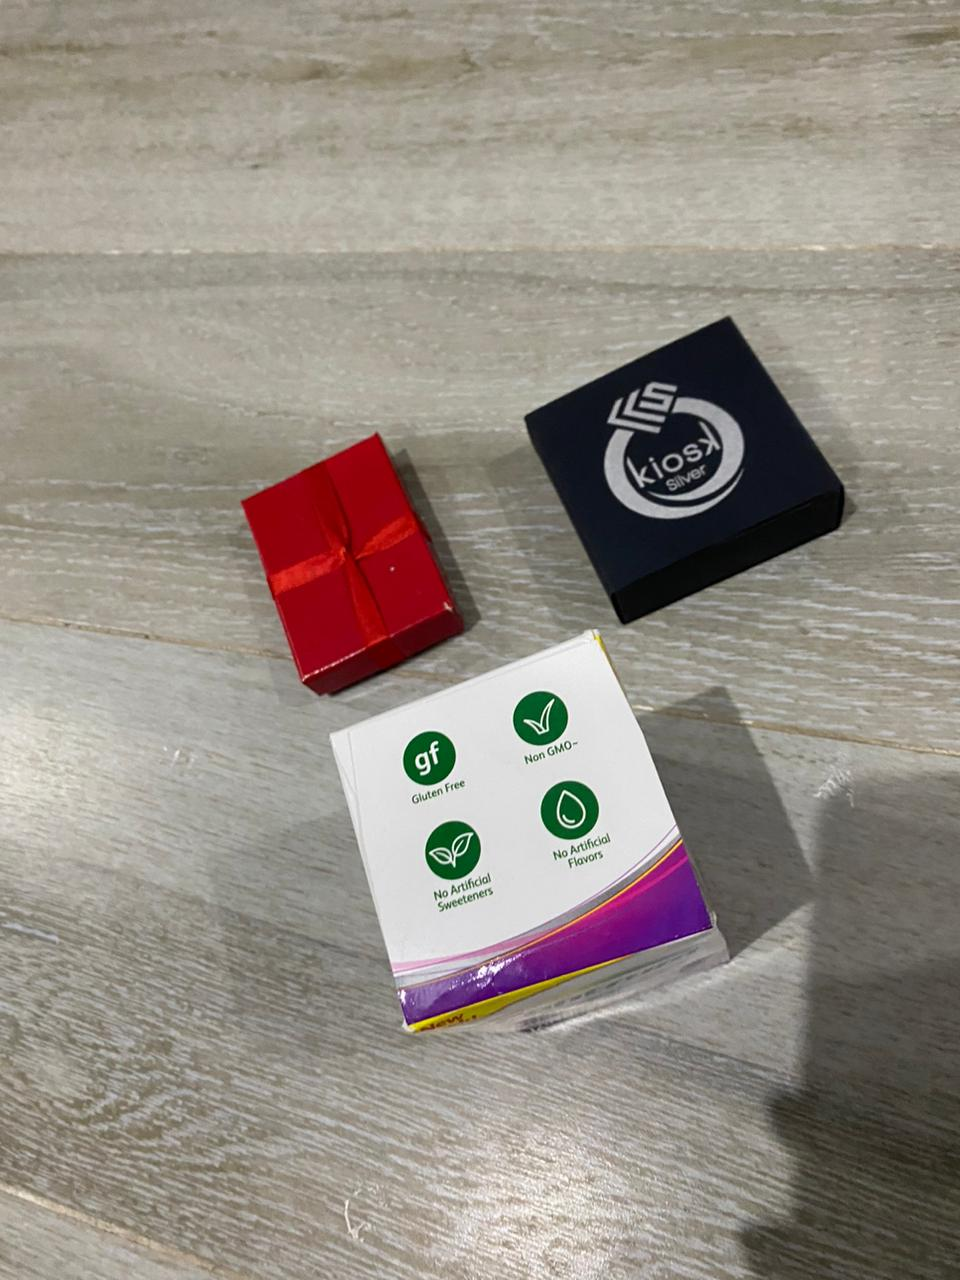Centrum: (327, 629, 734, 1046)
Red Box: (521, 315, 853, 630), (238, 433, 475, 689)
